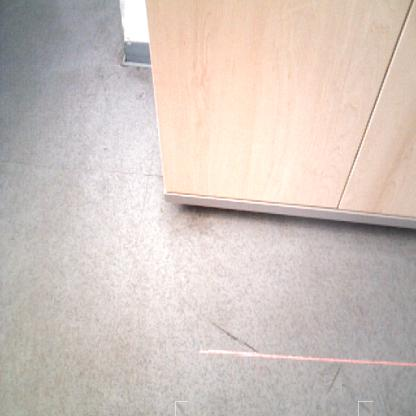mark: (208, 322, 260, 356), (320, 366, 346, 392), (358, 401, 373, 416), (175, 401, 188, 416), (136, 91, 145, 99)
